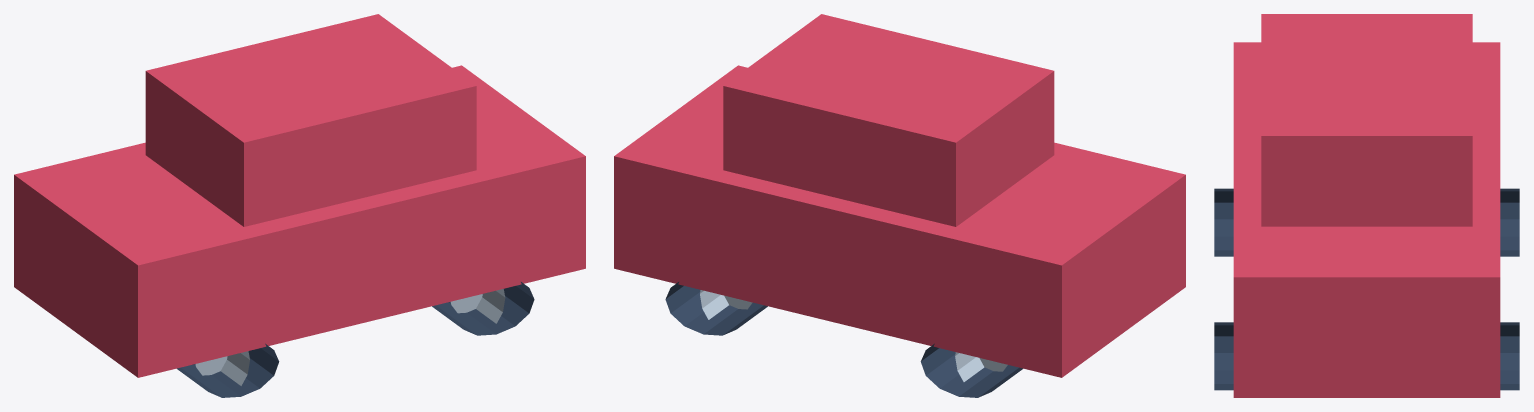
The model's file is minglora_sports_car.gltf.
3 views of the same model, side by side, from view 1: azimuth 30°, elevation 25°; view 2: azimuth 150°, elevation 25°; view 3: azimuth 270°, elevation 25° (orthographic). The views are drawn at different scales.
Parts seen in each view (by area): view 1: minglora_sports_car_0, minglora_sports_car_1, minglora_sports_car_5, minglora_sports_car_7, minglora_sports_car_9, minglora_sports_car_11; view 2: minglora_sports_car_0, minglora_sports_car_1, minglora_sports_car_4, minglora_sports_car_6, minglora_sports_car_8, minglora_sports_car_10; view 3: minglora_sports_car_0, minglora_sports_car_1, minglora_sports_car_4, minglora_sports_car_5, minglora_sports_car_6, minglora_sports_car_7.
Boxes of the visible parts, x1,y1,x2,y2 form: minglora_sports_car_0: (14,65,585,377); minglora_sports_car_1: (145,14,476,226); minglora_sports_car_5: (177,343,279,397); minglora_sports_car_7: (432,282,534,335); minglora_sports_car_9: (195,351,249,385); minglora_sports_car_11: (450,289,505,323); minglora_sports_car_0: (614,65,1185,377); minglora_sports_car_1: (723,14,1054,226); minglora_sports_car_4: (920,343,1022,397); minglora_sports_car_6: (665,282,767,335); minglora_sports_car_8: (955,352,1007,381); minglora_sports_car_10: (700,290,752,319); minglora_sports_car_0: (1233,42,1500,397); minglora_sports_car_1: (1261,14,1472,226); minglora_sports_car_4: (1500,188,1519,256); minglora_sports_car_5: (1214,188,1233,256); minglora_sports_car_6: (1500,322,1519,390); minglora_sports_car_7: (1214,322,1233,390).
Bounding box in the file's own units: 2 × 1 × 1.1.
